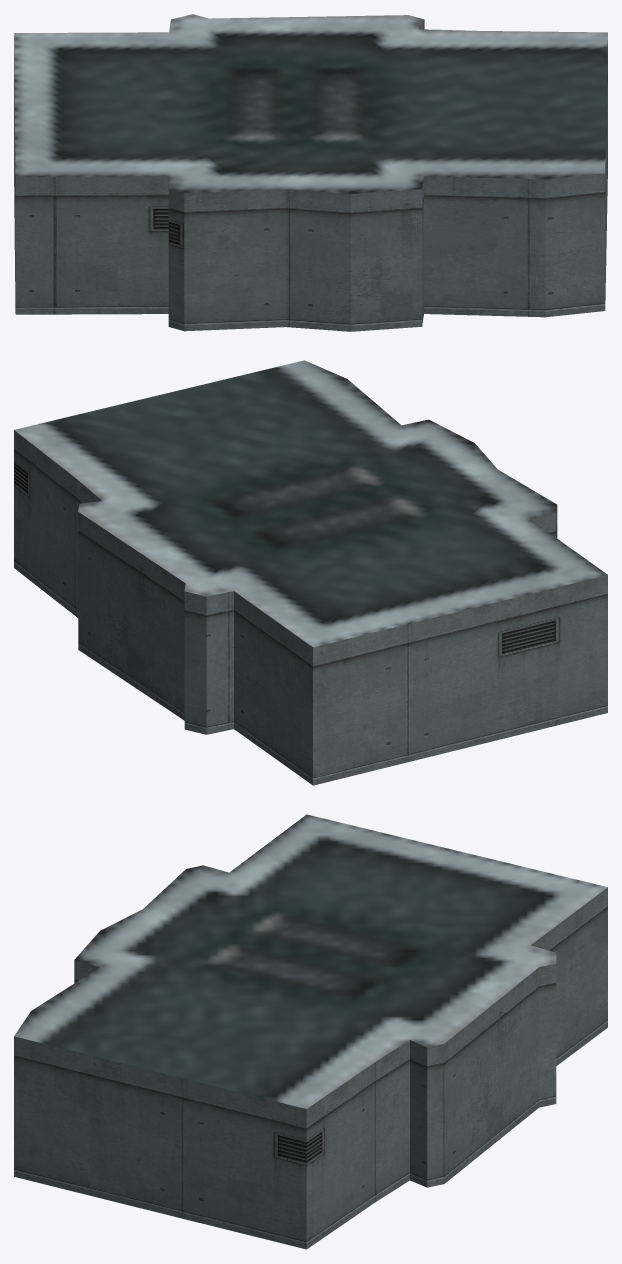
File: medium_roof04.glb
3 renders of one model, top to bottom at view 1: azimuth 30°, elevation 25°; view 2: azimuth 150°, elevation 25°; view 3: azimuth 270°, elevation 25°, orthographic.
Parts seen in each view (by area): view 1: buildings/saxarba/medium/medium_roof04; view 2: buildings/saxarba/medium/medium_roof04; view 3: buildings/saxarba/medium/medium_roof04.
Boxes of the visible parts, x1,y1,x2,y2 form: buildings/saxarba/medium/medium_roof04: (14, 14, 607, 331); buildings/saxarba/medium/medium_roof04: (14, 360, 607, 785); buildings/saxarba/medium/medium_roof04: (14, 814, 607, 1249).
Size of the model in its own units: 81 by 18 by 69.
